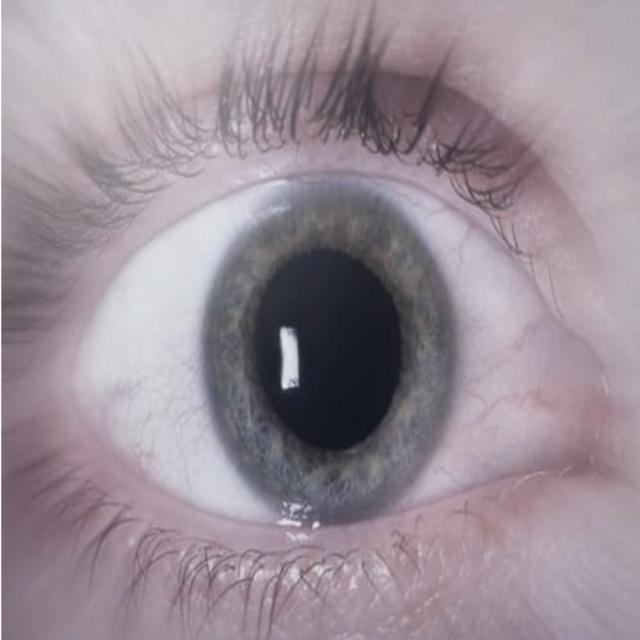gaze: (191, 188, 476, 508)
